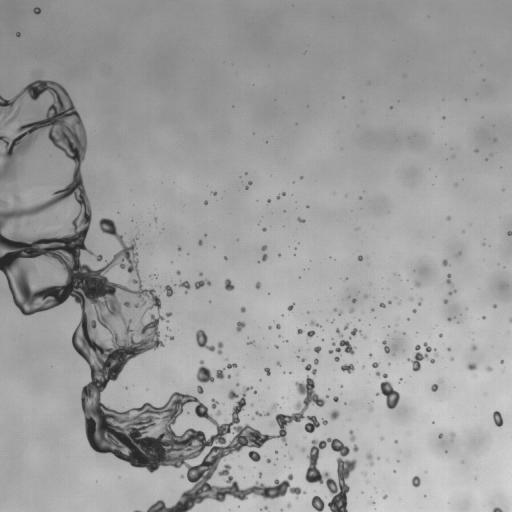droplet: (305, 439, 356, 511), (407, 342, 434, 371), (196, 361, 224, 383), (329, 339, 354, 354), (311, 496, 325, 511), (493, 411, 503, 427), (341, 364, 354, 373), (225, 279, 234, 290), (179, 281, 190, 290), (164, 285, 173, 296), (236, 321, 245, 331), (330, 409, 339, 419), (412, 476, 420, 487), (228, 390, 237, 399), (351, 328, 361, 336), (467, 362, 476, 370), (211, 399, 218, 408), (307, 330, 314, 338), (227, 363, 237, 368), (33, 7, 40, 14), (197, 385, 203, 393), (442, 259, 448, 266), (314, 346, 321, 352), (372, 362, 379, 368), (431, 384, 437, 391), (96, 255, 102, 261), (288, 304, 294, 310), (262, 254, 267, 261), (265, 368, 270, 375), (255, 411, 262, 416), (255, 282, 260, 288), (344, 323, 349, 329), (486, 366, 492, 371), (333, 396, 338, 402), (353, 445, 358, 451), (297, 218, 304, 222), (261, 245, 266, 250), (240, 307, 245, 312), (334, 356, 339, 361), (165, 312, 171, 316), (297, 329, 303, 333), (472, 344, 476, 350), (314, 358, 318, 364), (198, 240, 202, 245), (415, 282, 419, 287), (380, 303, 385, 307), (276, 324, 280, 329), (216, 410, 220, 415), (438, 433, 442, 438), (266, 458, 270, 463), (16, 32, 20, 36), (507, 231, 511, 235), (358, 256, 362, 260), (176, 270, 180, 274), (352, 298, 356, 302), (443, 299, 447, 303), (383, 495, 387, 499), (287, 503, 291, 507), (434, 350, 437, 355), (212, 192, 216, 195), (447, 216, 450, 220), (439, 333, 442, 337), (276, 362, 280, 365), (301, 448, 305, 451), (262, 506, 266, 509), (509, 317, 511, 322), (204, 201, 207, 204), (263, 228, 266, 231), (178, 247, 181, 250), (30, 263, 33, 266), (493, 304, 496, 307), (350, 309, 353, 312), (338, 311, 341, 314), (170, 336, 173, 339), (369, 354, 372, 357), (302, 358, 305, 361), (253, 390, 256, 393), (258, 473, 261, 476), (180, 475, 183, 478), (475, 149, 477, 152), (199, 273, 202, 275), (334, 308, 336, 311), (413, 309, 415, 312), (448, 318, 451, 320), (268, 326, 271, 328), (332, 342, 335, 344), (447, 348, 450, 350), (227, 375, 230, 377), (326, 395, 328, 398), (268, 200, 270, 202), (154, 218, 156, 220), (224, 257, 226, 259), (365, 295, 367, 297), (371, 309, 373, 311), (482, 316, 484, 318), (363, 335, 365, 337), (275, 345, 277, 347), (370, 408, 372, 410), (251, 417, 253, 419), (271, 422, 273, 424), (291, 457, 293, 459), (371, 502, 373, 504)
ligament: (0, 90, 327, 511), (375, 371, 399, 409), (195, 329, 223, 354), (4, 107, 20, 125), (264, 403, 278, 415), (194, 280, 210, 289), (305, 364, 316, 374), (383, 340, 390, 353), (366, 453, 373, 465), (349, 430, 355, 441), (310, 321, 320, 326), (277, 192, 285, 198), (446, 274, 451, 283), (492, 507, 503, 511), (246, 181, 251, 188), (336, 329, 341, 336), (449, 290, 456, 294), (247, 341, 255, 344), (451, 432, 454, 440), (134, 510, 142, 511)
